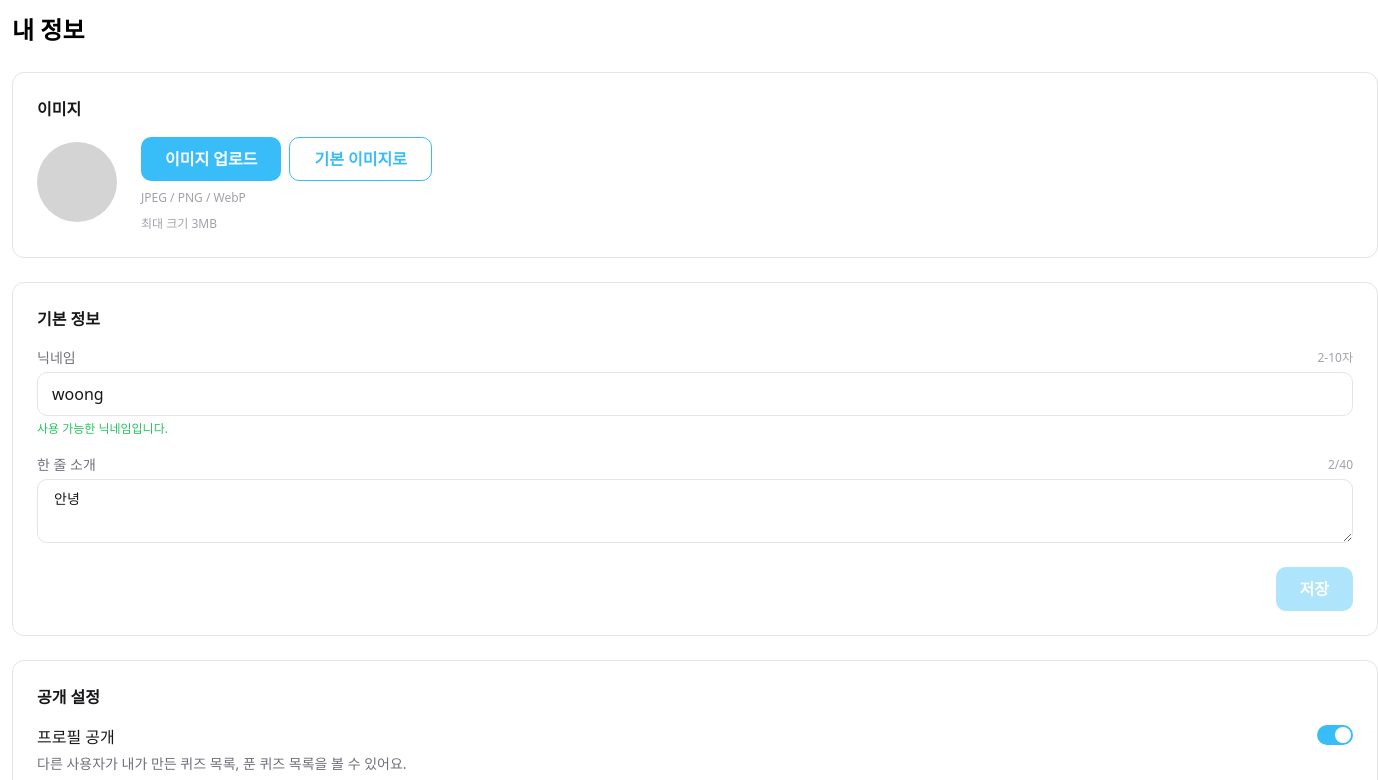
it: ProfileInfo › 저장 버튼 활성 조건 › 닉네임 변경 + status=available 이면 저장 버튼 활성
Replace the text in the field with placeholder "닉네임" with "newname" at (695, 394), box [37,372,1353,416]
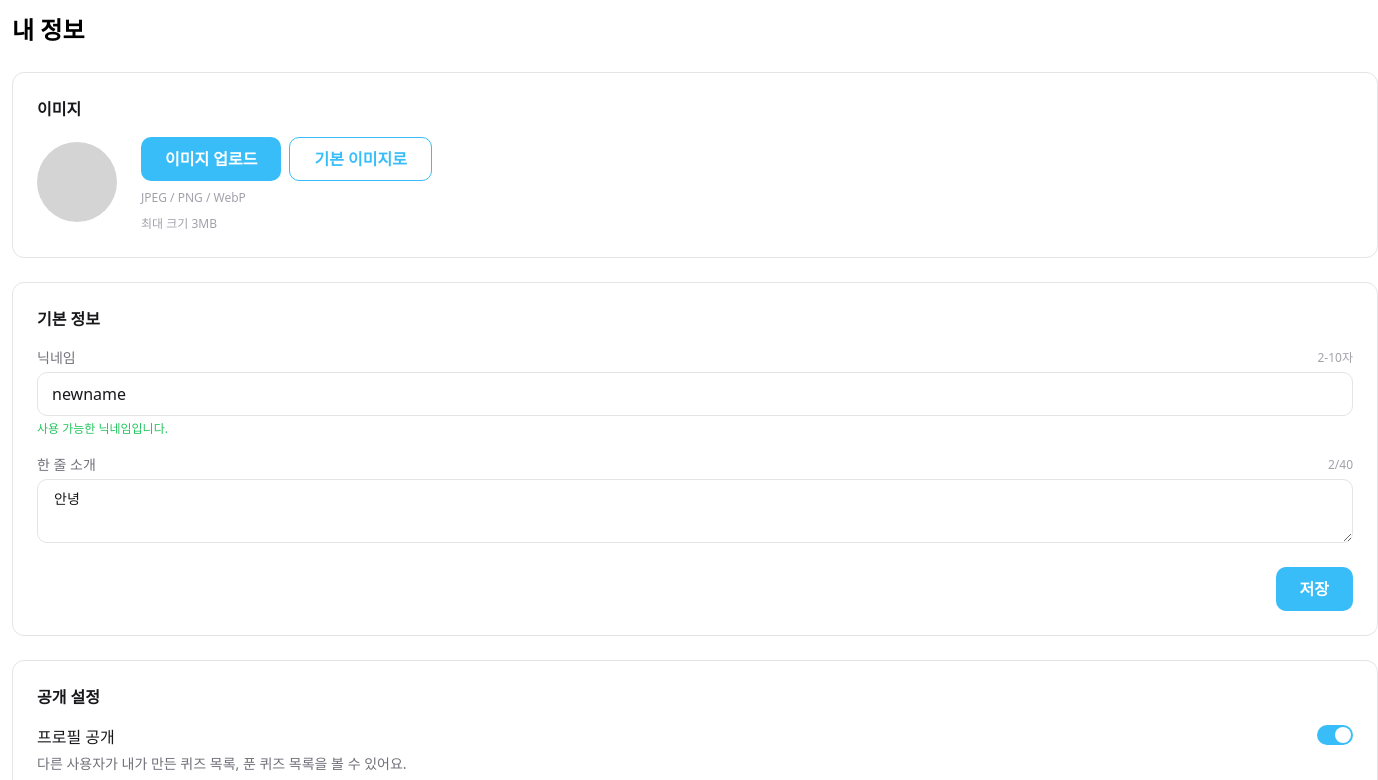
Result: the button "저장" is enabled at [1276,567,1353,611]
